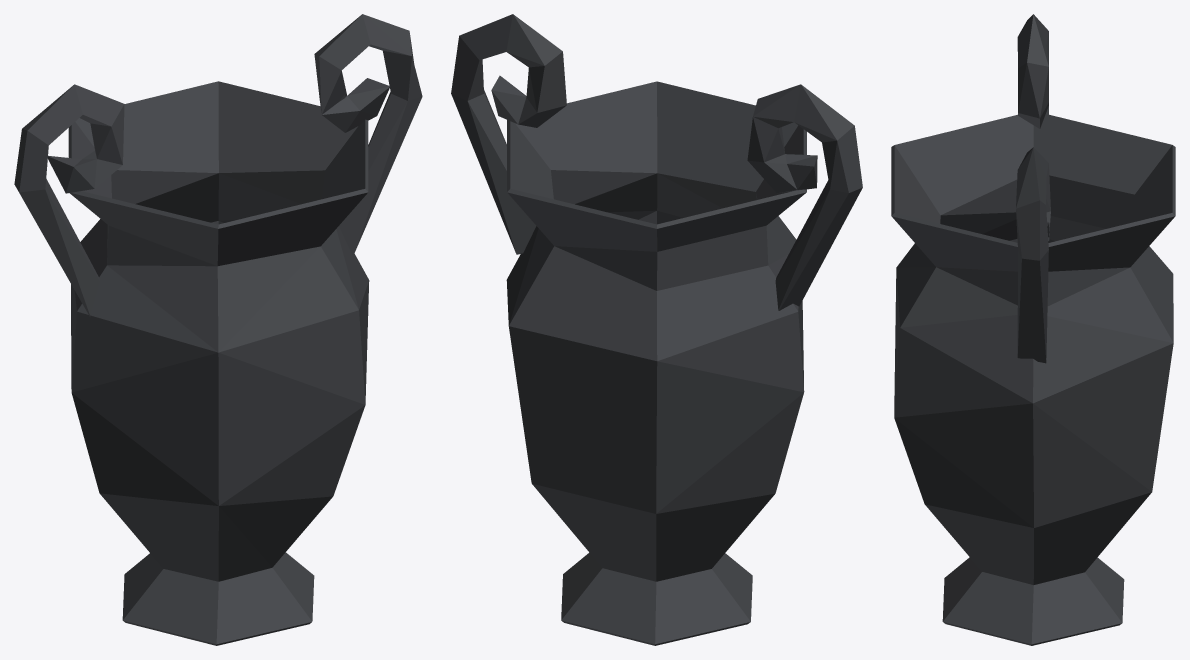
Rendered from Jar_003.fbx.
3 views of the same model, side by side, from view 1: azimuth 30°, elevation 25°; view 2: azimuth 150°, elevation 25°; view 3: azimuth 270°, elevation 25° (orthographic). The views are drawn at different scales.
Visible parts, largest first — view 1: Jar.003; view 2: Jar.003; view 3: Jar.003.
Boxes of the visible parts, left/top/right/bottom form: Jar.003: left=14, top=14, right=422, bottom=645; Jar.003: left=451, top=14, right=862, bottom=645; Jar.003: left=891, top=14, right=1175, bottom=645.
Size of the model in its own units: 95.61 by 124 by 61.28.
